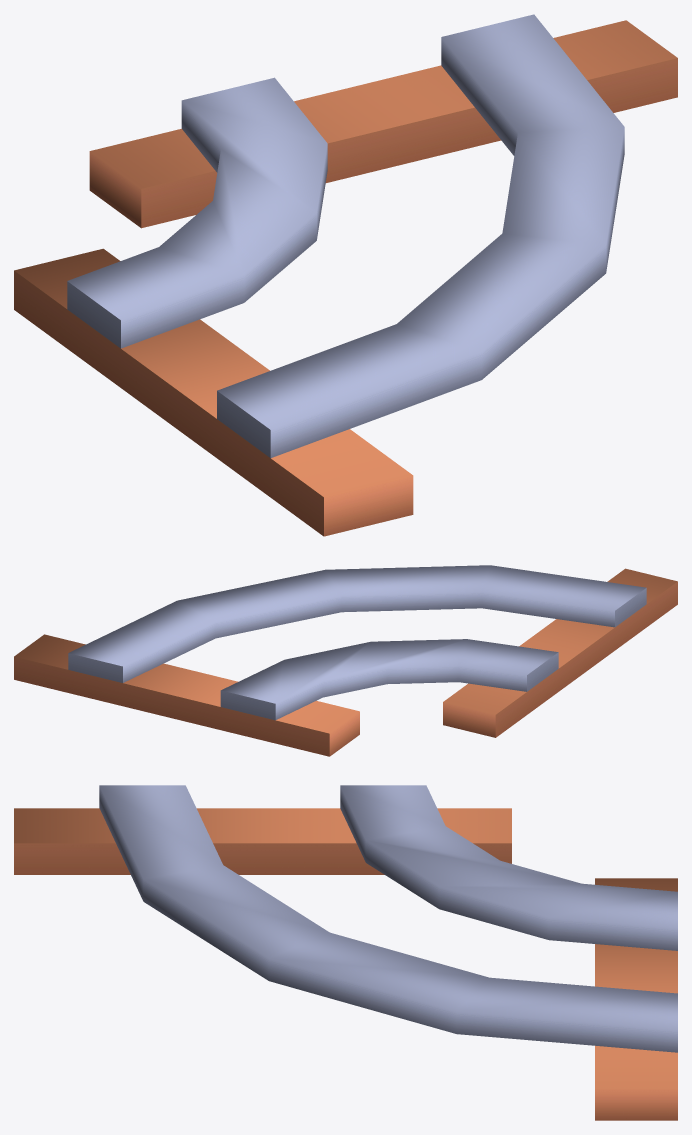
File: trainset-rail-detailed-corner.glb
3 views of the same model, one above another, from view 1: azimuth 30°, elevation 25°; view 2: azimuth 150°, elevation 25°; view 3: azimuth 270°, elevation 25° (orthographic). The views are drawn at different scales.
Visible parts, largest first — view 1: trainset-rail-detailed-corner; view 2: trainset-rail-detailed-corner; view 3: trainset-rail-detailed-corner.
Part boxes in pixels (x1,y1,x2,y2): trainset-rail-detailed-corner: (14,14,677,536); trainset-rail-detailed-corner: (14,565,677,756); trainset-rail-detailed-corner: (14,785,677,1120).
Size of the model in its own units: 0.4 by 0.0362 by 0.4.
1 material, 1 textured.
